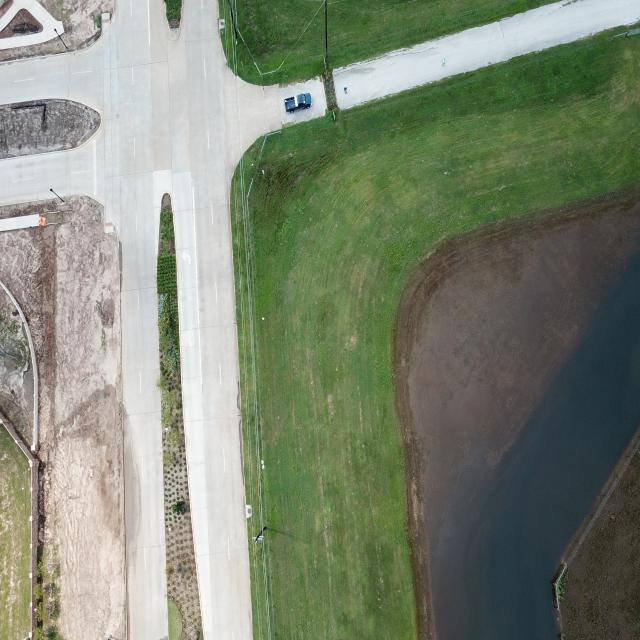fire: (432, 249, 640, 640)
